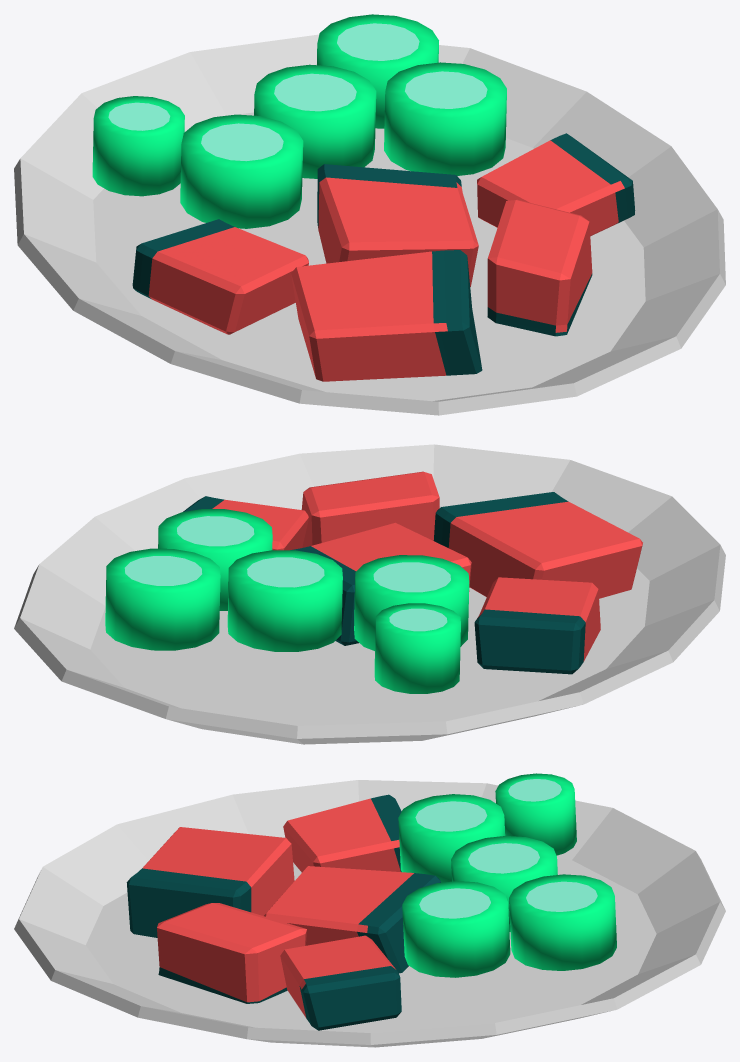
File: xlb_open.fbx
The picture shows the model from 3 angles, top to bottom: view 1: azimuth 30°, elevation 25°; view 2: azimuth 150°, elevation 25°; view 3: azimuth 270°, elevation 25°; orthographic projection. The views are drawn at different scales.
Visible parts, largest first — view 1: DumplingsOpen, Meat - Chopped.001, Carrot - Chopped.001; view 2: DumplingsOpen, Carrot - Chopped.001, Meat - Chopped.001; view 3: DumplingsOpen, Meat - Chopped.001, Carrot - Chopped.001.
Boxes of the visible parts, box(x1,y1,x2,y2) form: DumplingsOpen: box(14, 34, 725, 415); Meat - Chopped.001: box(132, 133, 635, 381); Carrot - Chopped.001: box(92, 14, 506, 228); DumplingsOpen: box(14, 444, 725, 744); Carrot - Chopped.001: box(105, 509, 469, 693); Meat - Chopped.001: box(183, 471, 642, 674); DumplingsOpen: box(14, 780, 725, 1047); Meat - Chopped.001: box(126, 794, 440, 1030); Carrot - Chopped.001: box(398, 773, 616, 977).
Bounding box in the file's own units: 51.11 × 10.33 × 59.53.
